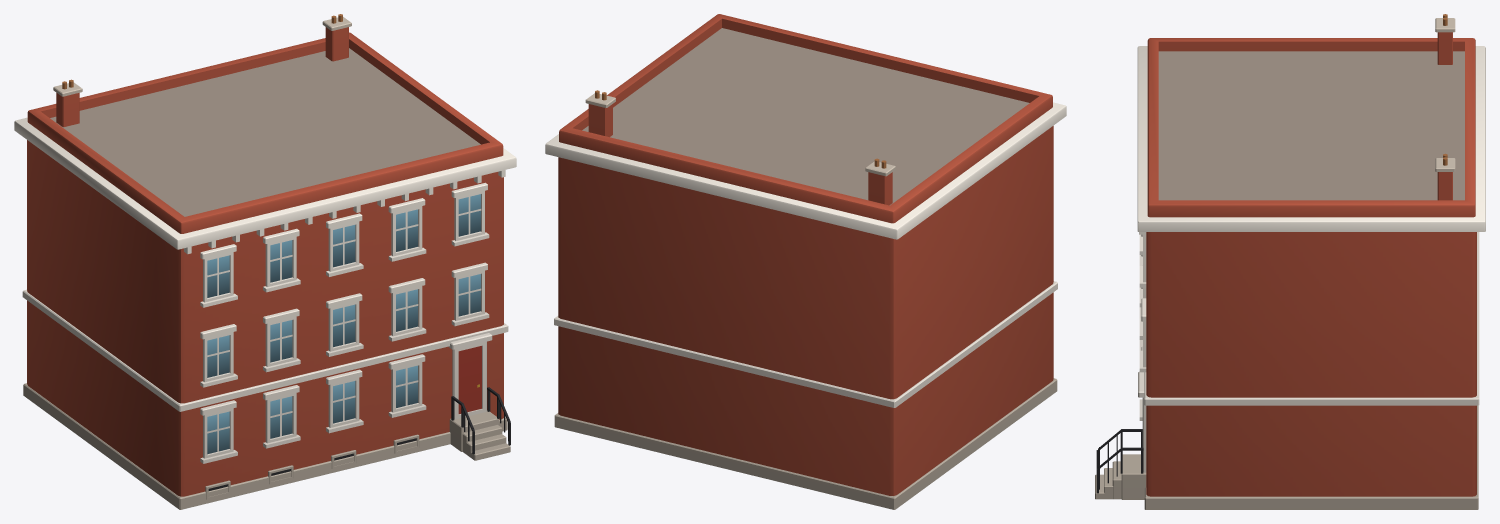
Rendered from beacon_se1.glb.
The picture shows the model from 3 angles, left to right: view 1: azimuth 30°, elevation 25°; view 2: azimuth 150°, elevation 25°; view 3: azimuth 270°, elevation 25°; orthographic projection. The views are drawn at different scales.
Visible parts, largest first — view 1: beacon_se1; view 2: beacon_se1; view 3: beacon_se1.
Part boxes in pixels (x1=…): beacon_se1: x1=14, y1=14, x2=516, y2=509; beacon_se1: x1=545, y1=14, x2=1066, y2=509; beacon_se1: x1=1095, y1=14, x2=1485, y2=509.
Bounding box in the file's own units: 15.14 × 13.54 × 14.18.
1 material, 1 textured.
